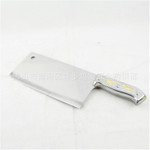knief: (7, 51, 145, 112)
